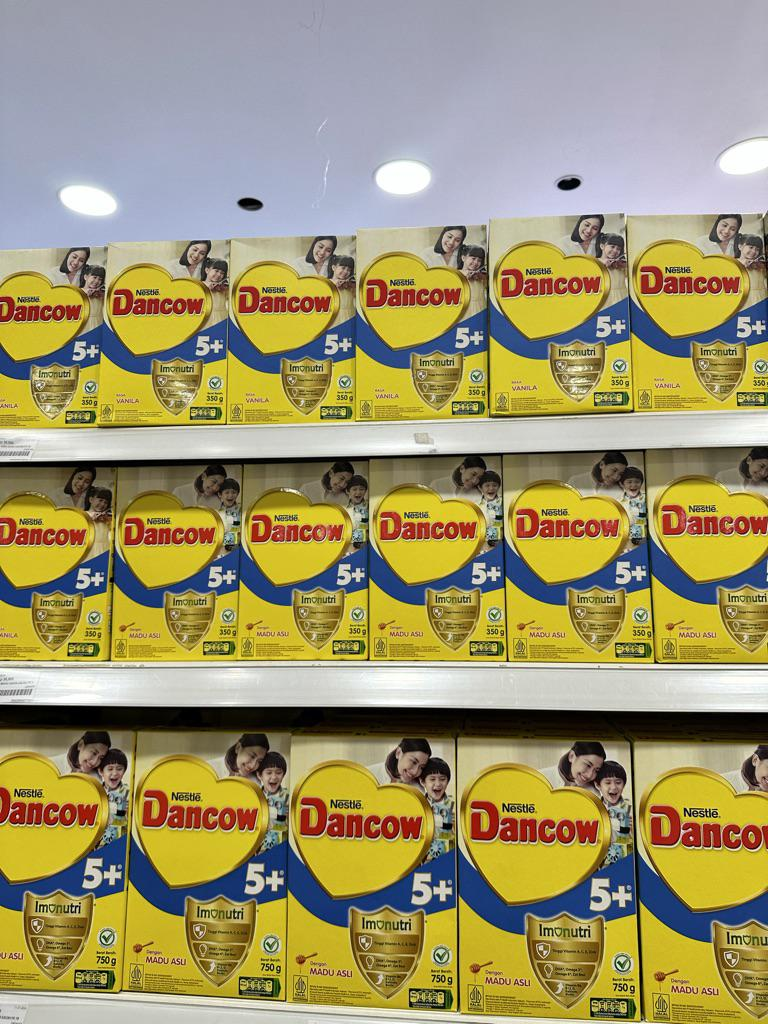DANCOW 5+ Madu Advn ExcNutr 12x800g ID_REDESIGN3: (458, 736, 641, 1016), (286, 729, 458, 1010), (123, 726, 286, 1001), (639, 736, 763, 1014), (0, 727, 126, 995)
DANCOW 5+ Madu Advn ExcNutr 24x400g ID_REDESIGN3: (506, 452, 652, 660), (368, 456, 506, 658), (241, 459, 367, 657), (115, 462, 241, 658)
